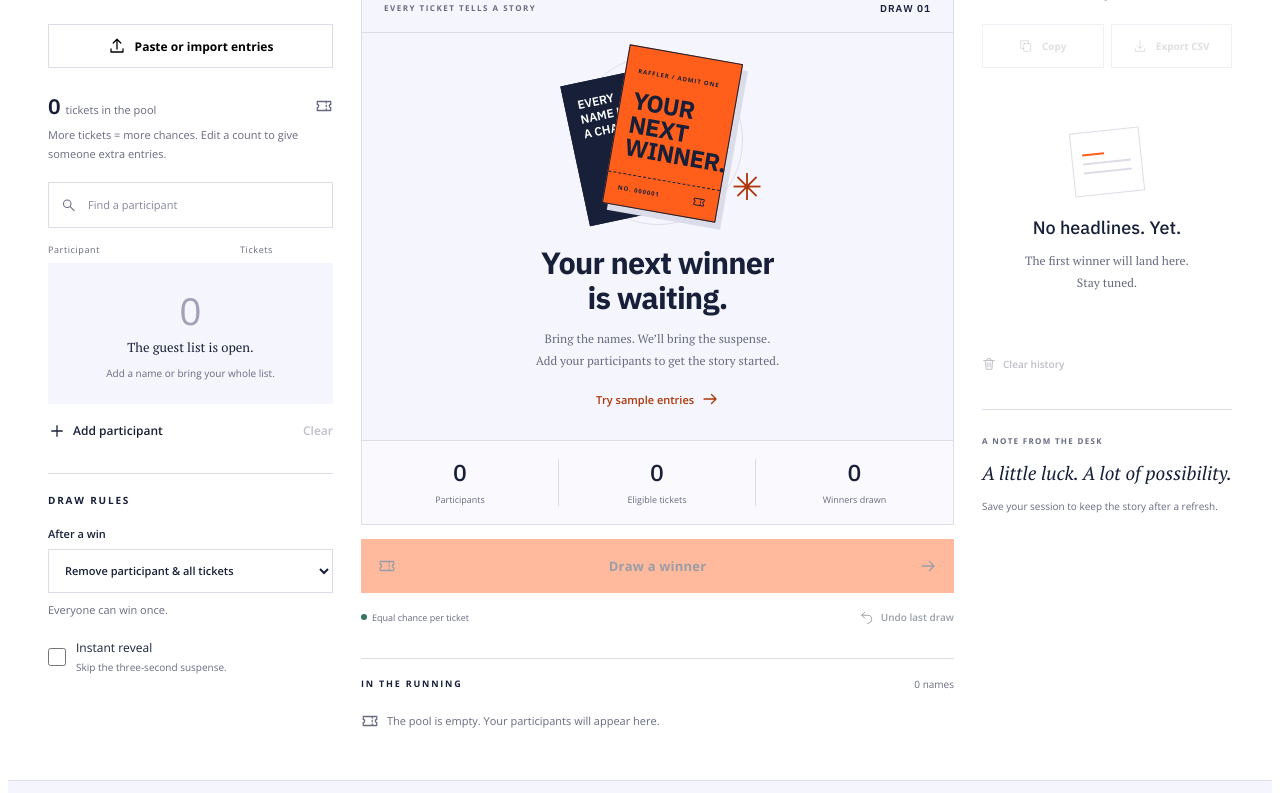
Test: invalid ticket edit reverts safely; search never changes the eligible pool
(page scrolled)
Click the button "Try sample entries": [658, 399] box [596,377,719,421]
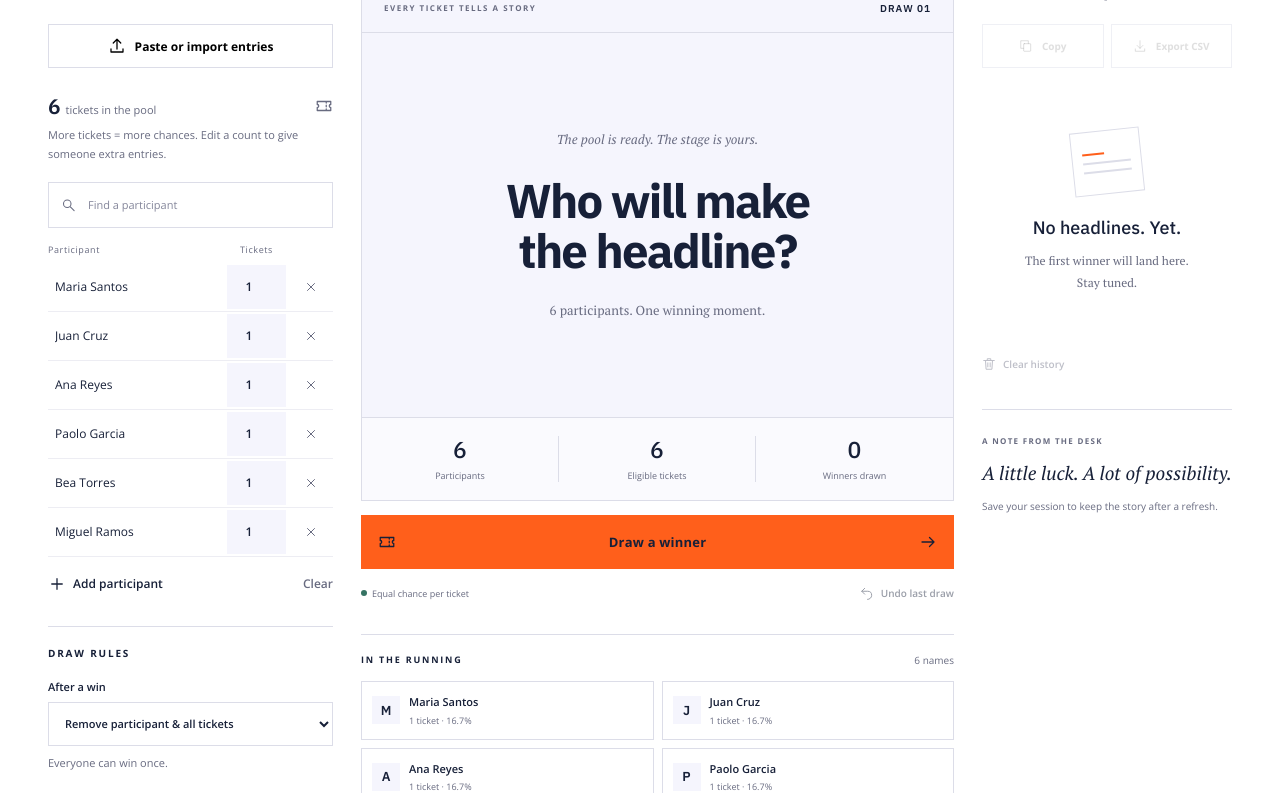
Replace the text in the number field named "Tickets for Maria Santos" with "0": [256, 287] box [227,265,286,309]
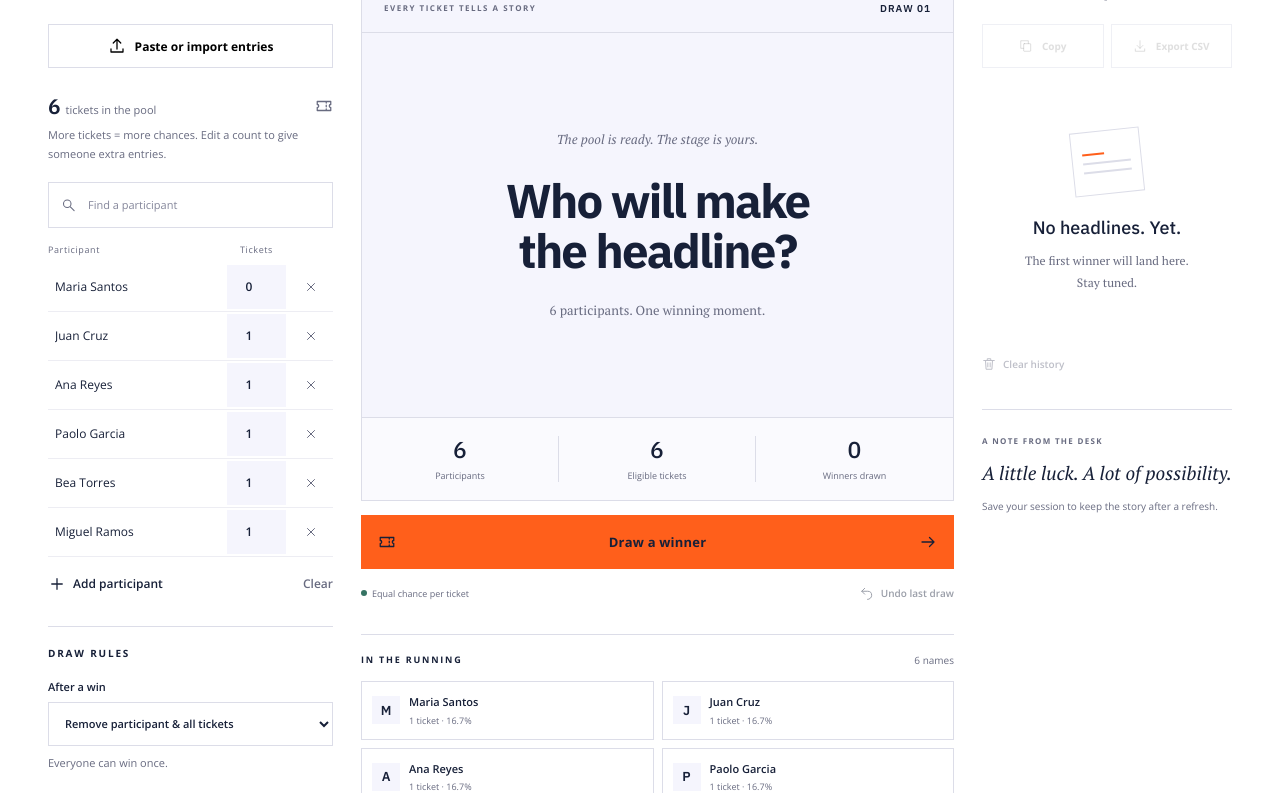
Leave the number field named "Tickets for Maria Santos", box [227,265,286,309]
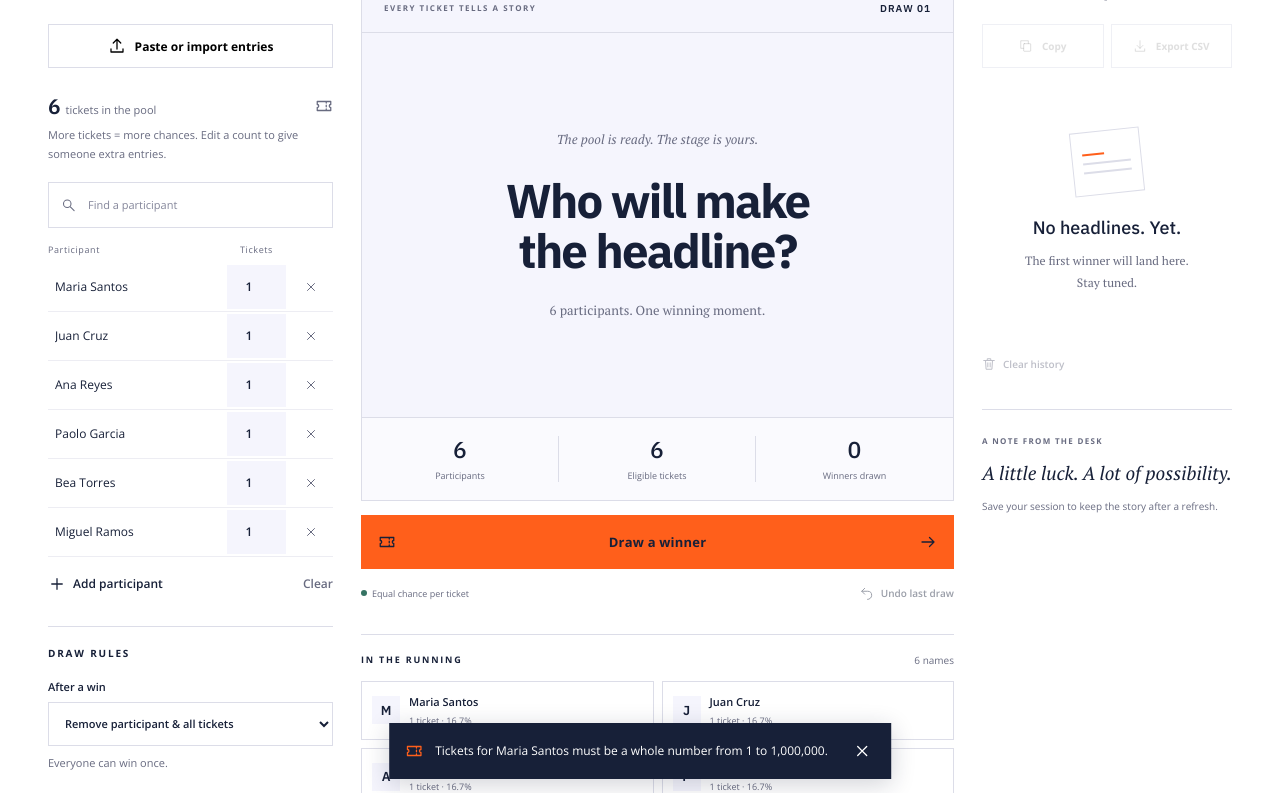
Expected: the number field named "Tickets for Maria Santos" holds "1", [227,265,286,309]
In the search field named "Search participants": [204, 205] box [76,183,332,227], type "nobody"
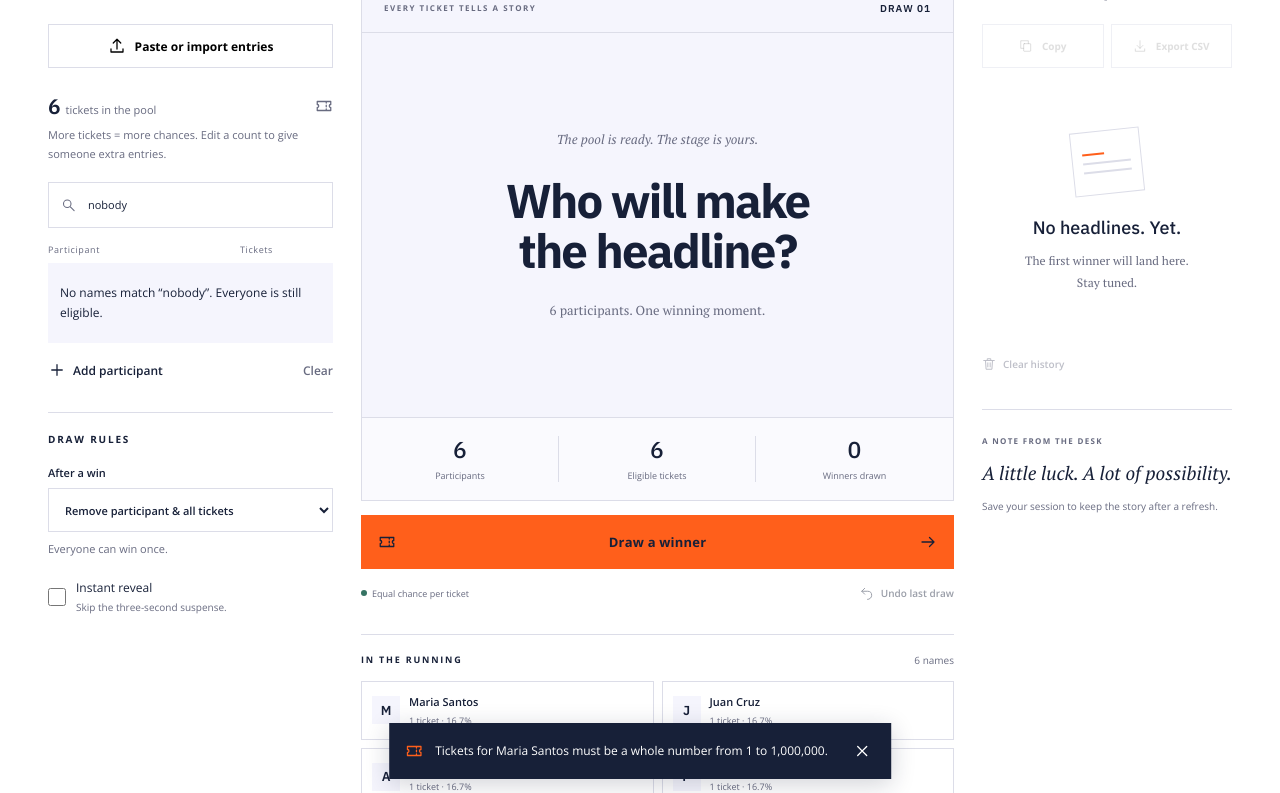
Expected: the button "Draw a winner" is enabled, [361,515,954,569]
Expected: the text "No names match “nobody”. Everyone is still eligible." is shown, [48,263,333,344]
